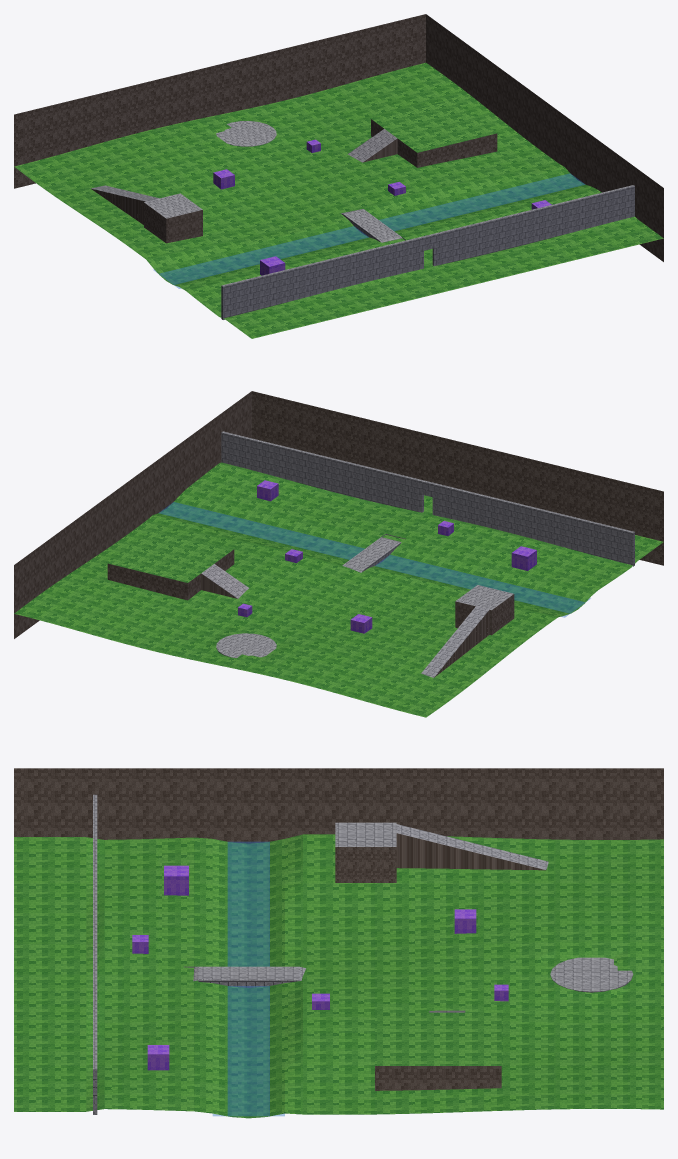
File: landing.glb
3 renders of one model, top to bottom at view 1: azimuth 30°, elevation 25°; view 2: azimuth 150°, elevation 25°; view 3: azimuth 270°, elevation 25°, orthographic. The views are drawn at different scales.
Parts seen in each view (by area): view 1: landing; view 2: landing; view 3: landing.
Part boxes in pixels (<box>): landing: <box>14,14,663,338</box>; landing: <box>14,391,663,717</box>; landing: <box>14,768,663,1118</box>.
Size of the model in its own units: 3600 by 620 by 3600.
6 materials, 6 textured.
